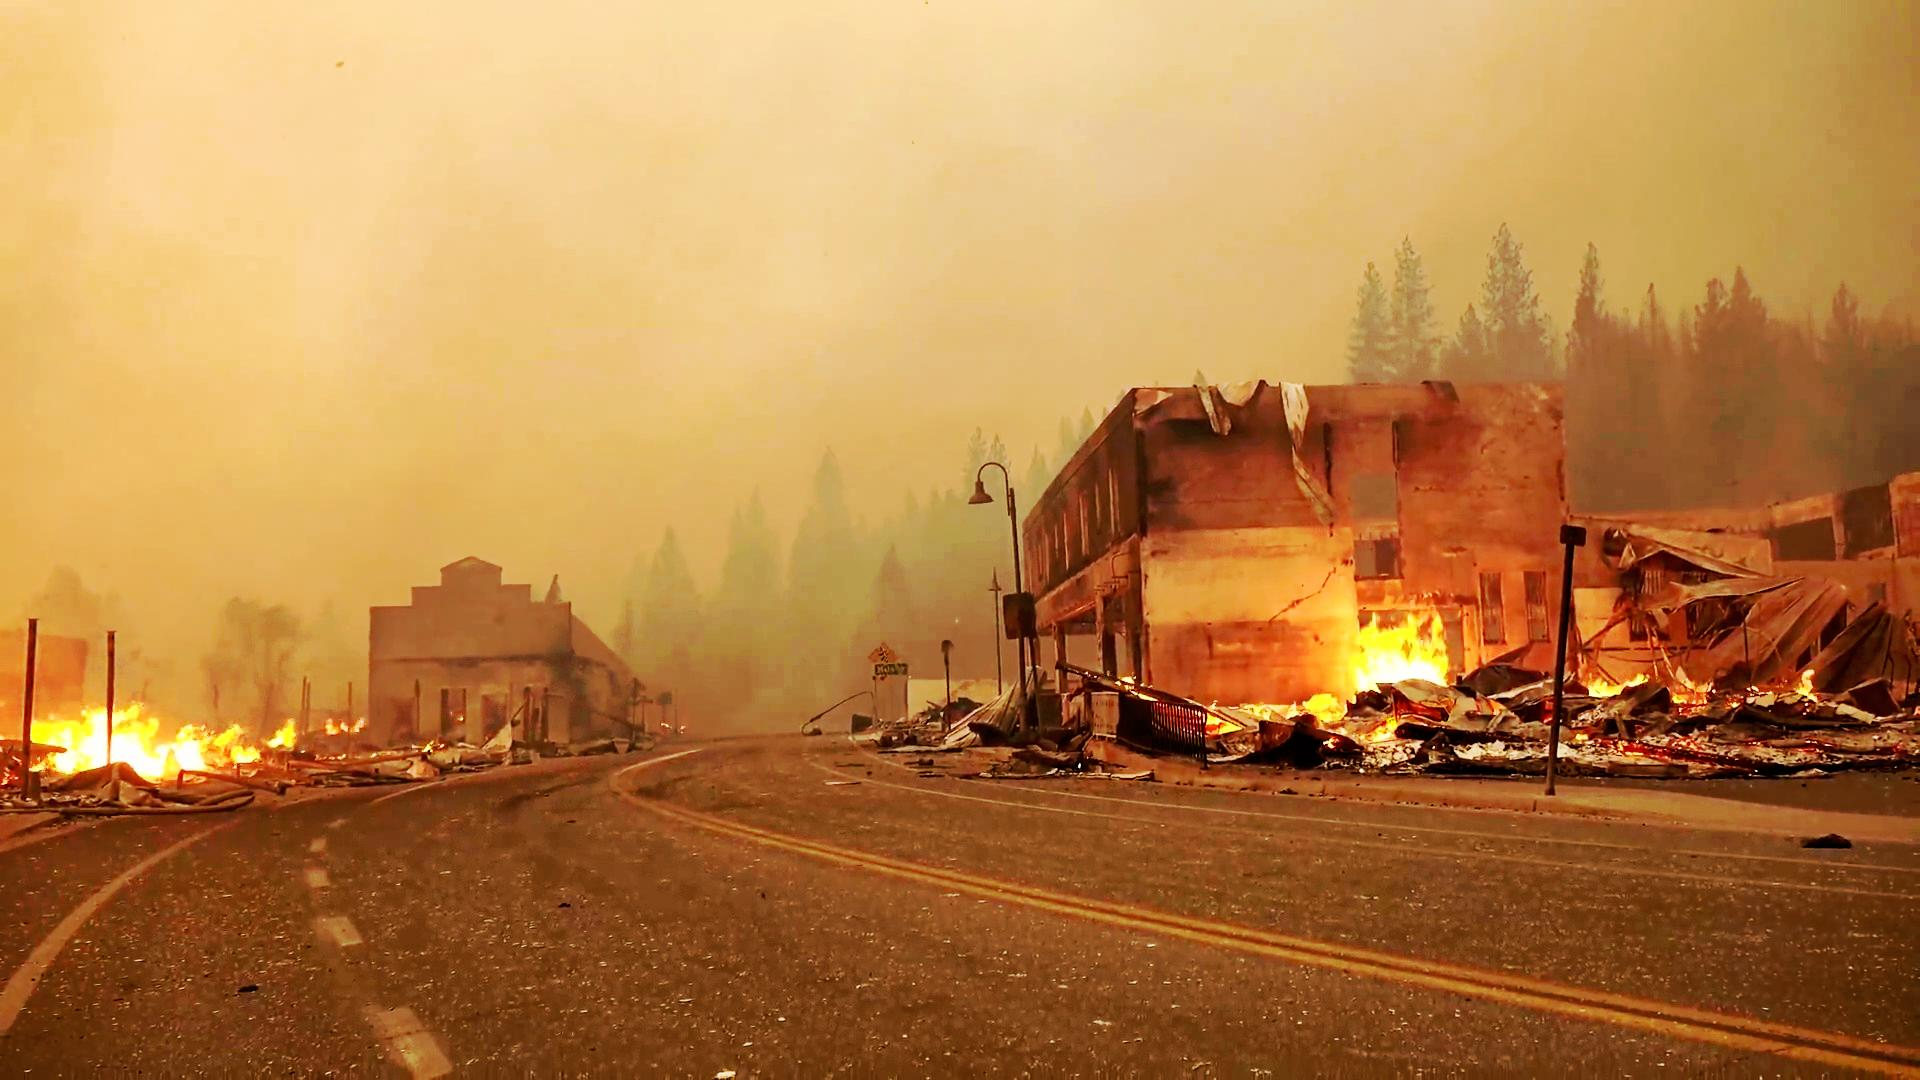fire: (13, 698, 236, 789), (1350, 608, 1447, 680)
